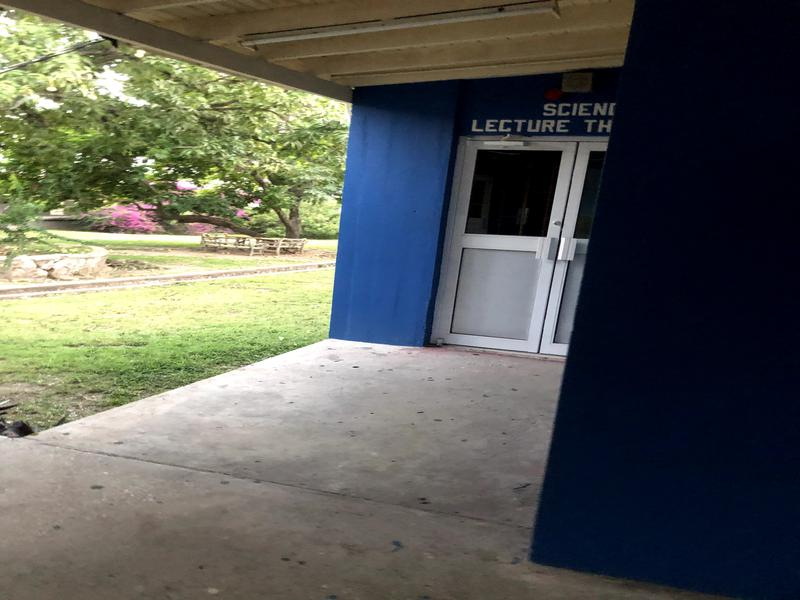18.0051836_-76.7497262_pclt1: (434, 92, 629, 362)
